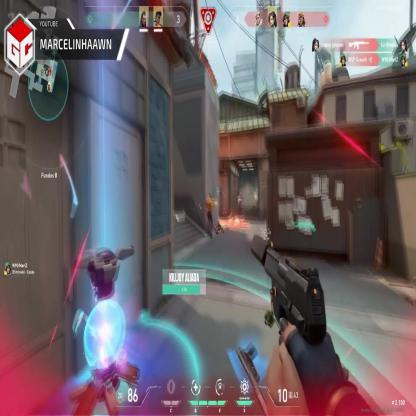enemy: (205, 192, 213, 237)
enemy_head: (208, 193, 212, 202)
